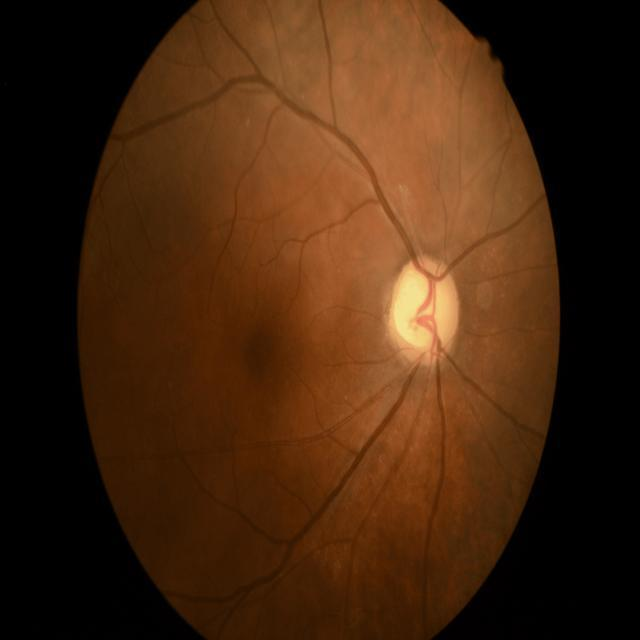cup: (395, 272, 446, 350)
disk: (388, 256, 460, 356)
